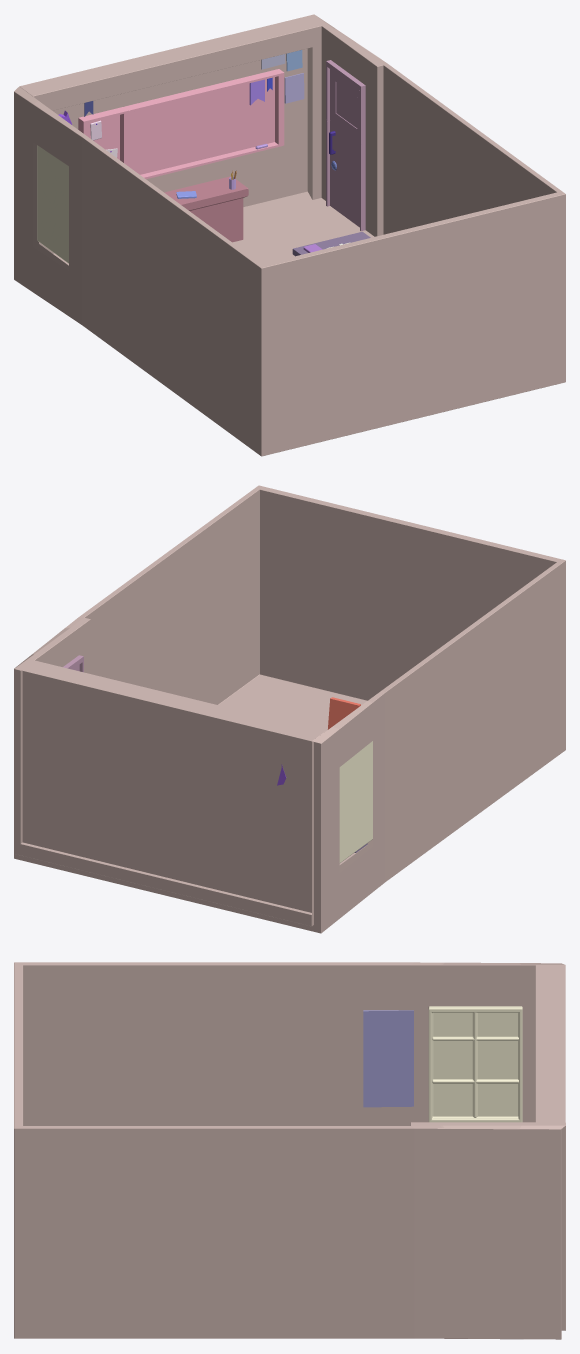
Rendered from classroom.fbx.
3 renders of one model, top to bottom at view 1: azimuth 30°, elevation 25°; view 2: azimuth 150°, elevation 25°; view 3: azimuth 270°, elevation 25°, orthographic. The views are drawn at different scales.
Parts seen in each view (by area): view 1: walls, board, Cube.044, window, teacher desk, classmate2desk, paper.007; view 2: walls, window, mcchair; view 3: walls, window, paper.008.
Boxes of the visible parts, bbox=[...] form: walls: bbox=[14, 14, 565, 456]; board: bbox=[78, 69, 284, 179]; Cube.044: bbox=[326, 60, 365, 231]; window: bbox=[37, 145, 68, 263]; teacher desk: bbox=[164, 176, 248, 242]; classmate2desk: bbox=[292, 231, 370, 256]; paper.007: bbox=[284, 73, 304, 103]; walls: bbox=[14, 485, 565, 933]; window: bbox=[339, 741, 372, 862]; mcchair: bbox=[327, 697, 360, 729]; walls: bbox=[14, 962, 565, 1339]; window: bbox=[428, 1006, 522, 1122]; paper.008: bbox=[363, 1010, 413, 1107].
Bounding box in the file's own units: 3642 × 2161 × 5076.
